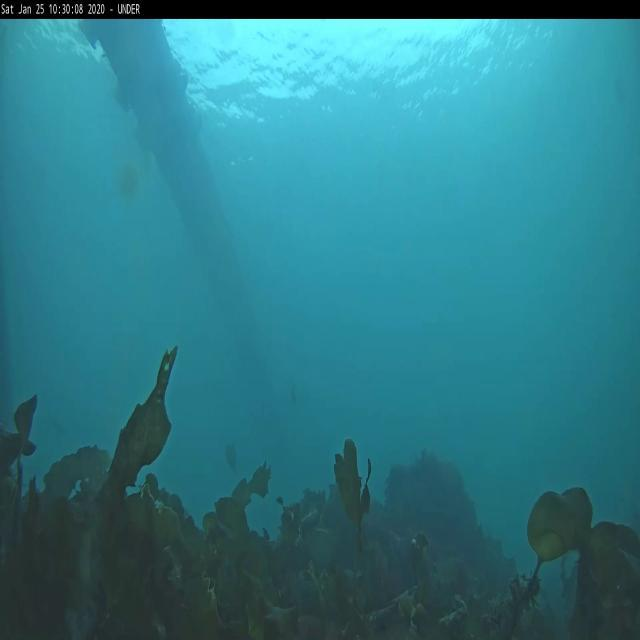fish: (287, 374, 301, 418), (224, 443, 240, 476)
